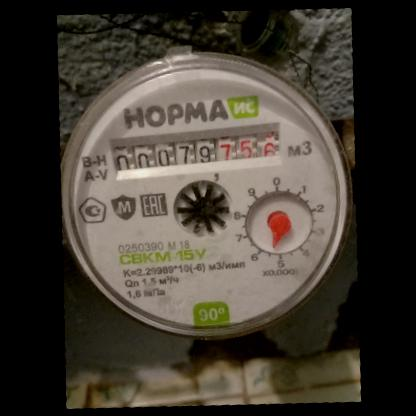digital_screen: (104, 124, 221, 187)
